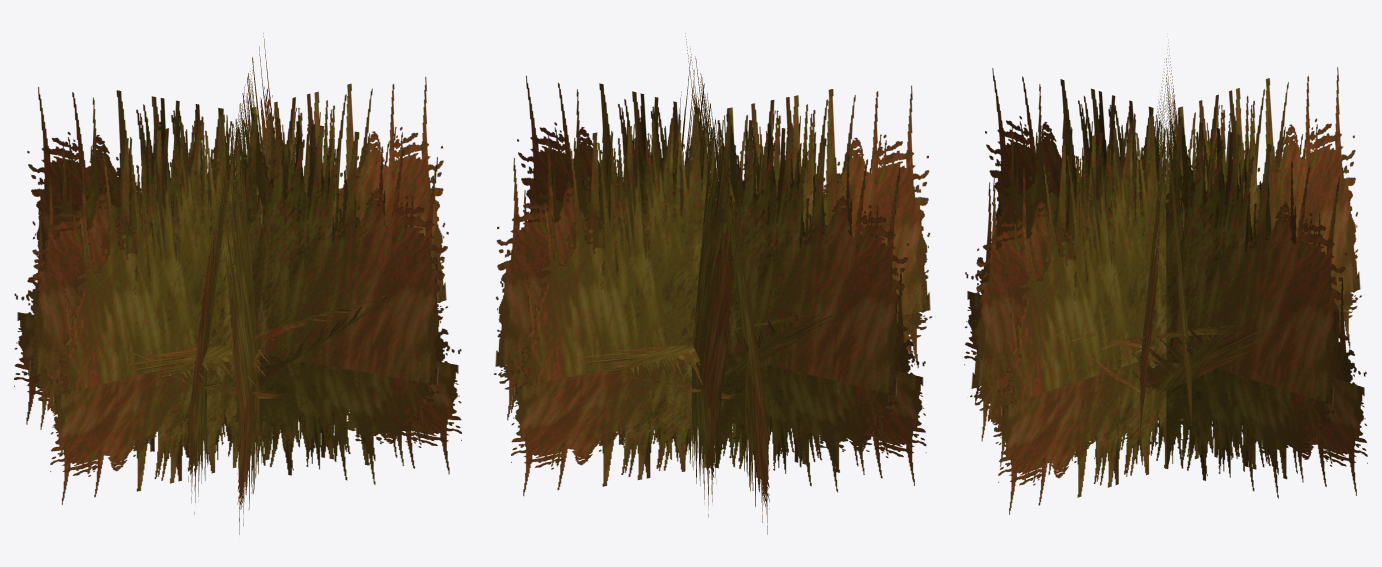
Rendered from Grass01.glb.
The picture shows the model from 3 angles, left to right: view 1: azimuth 30°, elevation 25°; view 2: azimuth 150°, elevation 25°; view 3: azimuth 270°, elevation 25°; orthographic projection.
Parts seen in each view (by area): view 1: Grass01; view 2: Grass01; view 3: Grass01.
Boxes of the visible parts, box(x1,y1,x2,y2) form: Grass01: box(14, 33, 461, 534); Grass01: box(494, 33, 931, 534); Grass01: box(964, 42, 1367, 514).
Size of the model in its own units: 2.68 by 2.19 by 2.33.
Materials: 1 (1 with a texture image).
